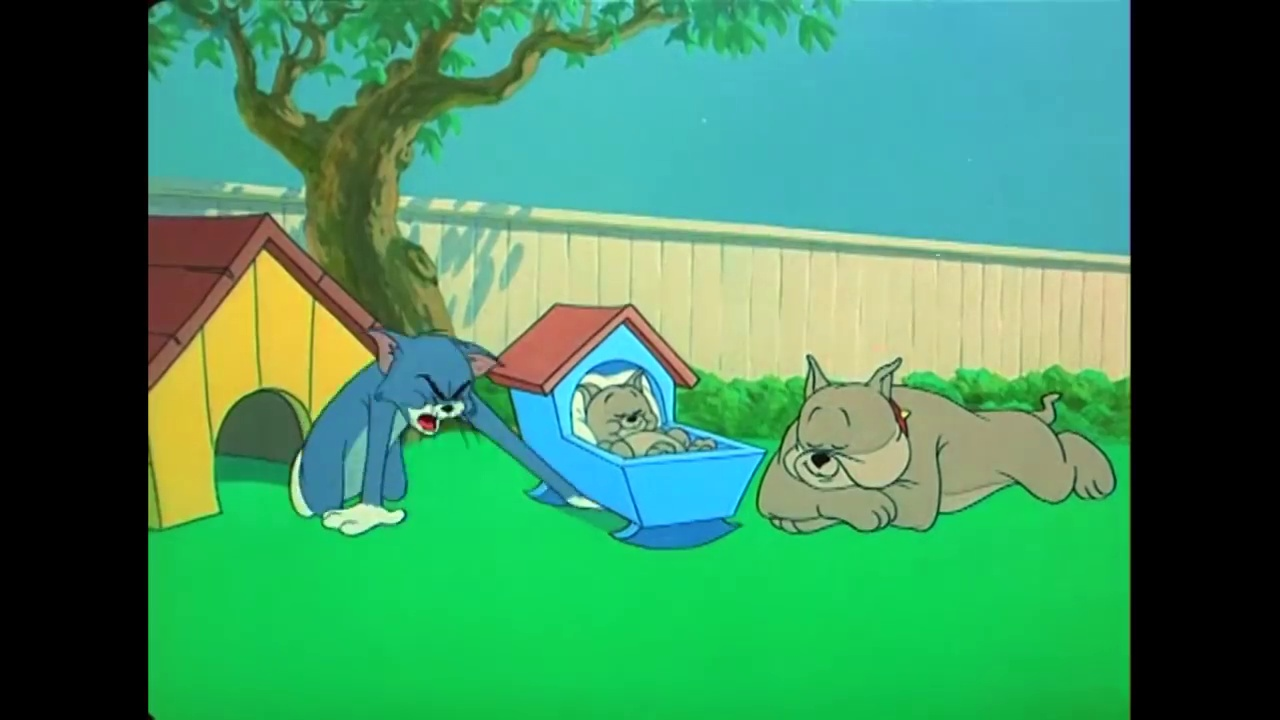spike: (775, 351, 913, 497)
tom: (365, 325, 502, 442)
